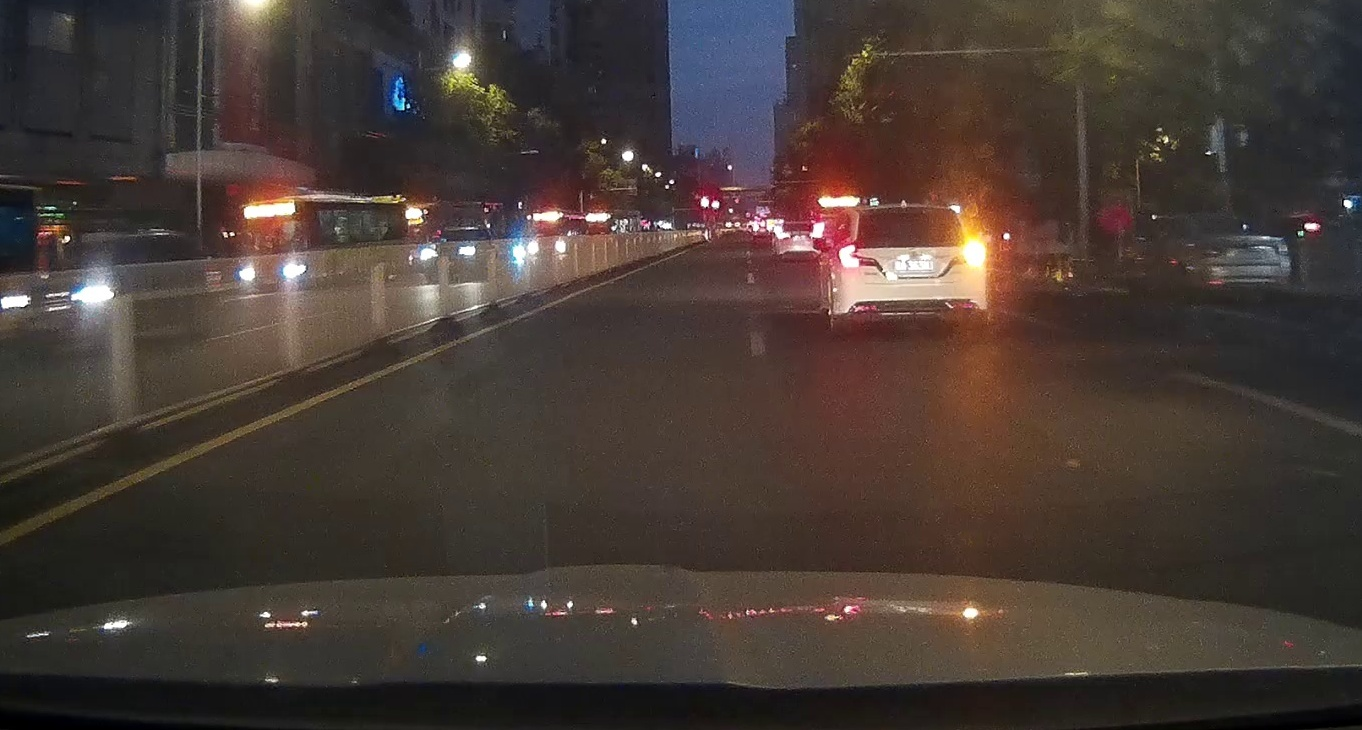L_light: (838, 244, 877, 268)
R_light: (951, 241, 985, 266)
T_light: (894, 208, 917, 214)
night-right: (837, 204, 987, 332)
